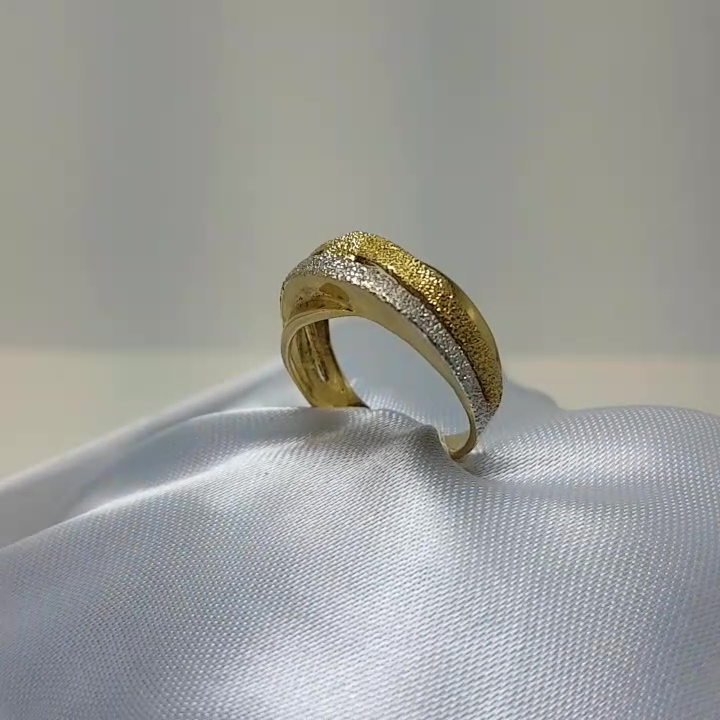Ring 5: (254, 214, 528, 474)
